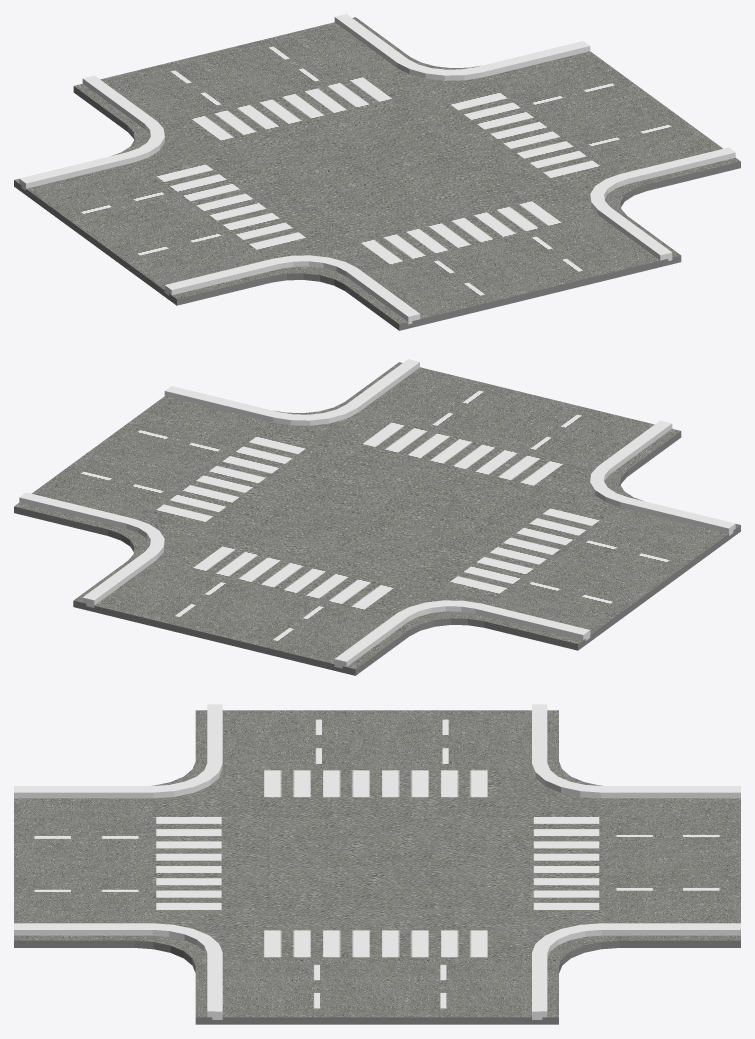
The model's file is 4Road_3.FBX.
3 renders of one model, top to bottom at view 1: azimuth 30°, elevation 25°; view 2: azimuth 150°, elevation 25°; view 3: azimuth 270°, elevation 25°, orthographic. The views are drawn at different scales.
Parts seen in each view (by area): view 1: 4Road; view 2: 4Road; view 3: 4Road.
Part boxes in pixels (x1,y1,x2,y2): 4Road: [14, 14, 740, 330]; 4Road: [14, 359, 740, 675]; 4Road: [14, 704, 740, 1024].
Bounding box in the file's own units: 1800 × 36.05 × 1800.
